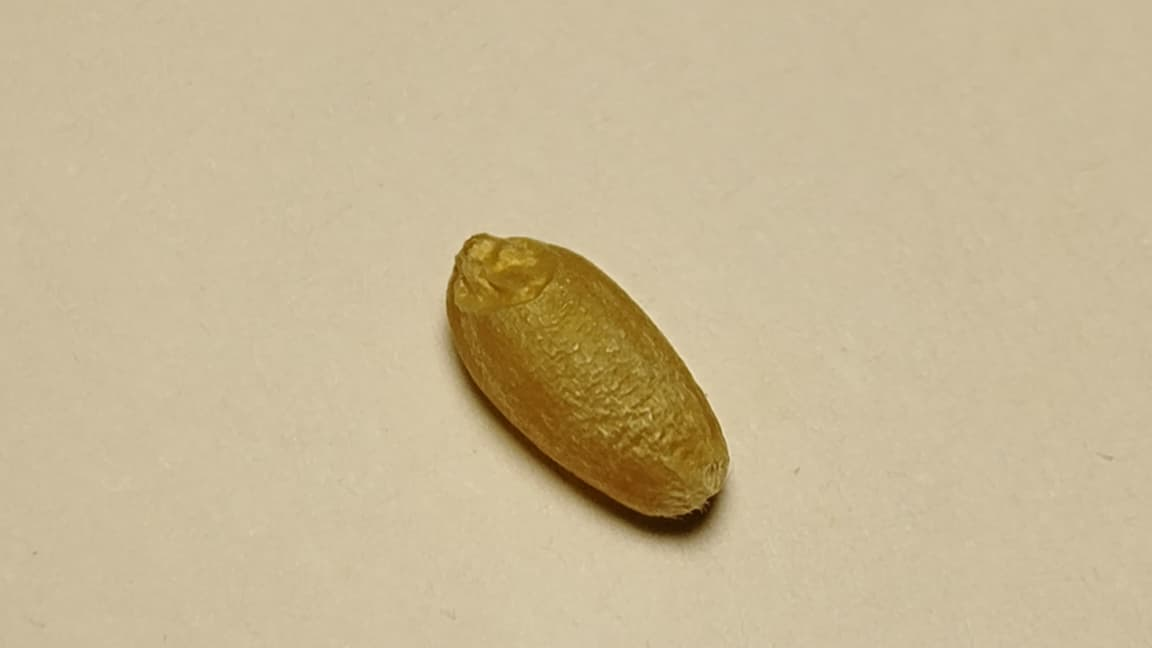healthy: (447, 234, 727, 514)
